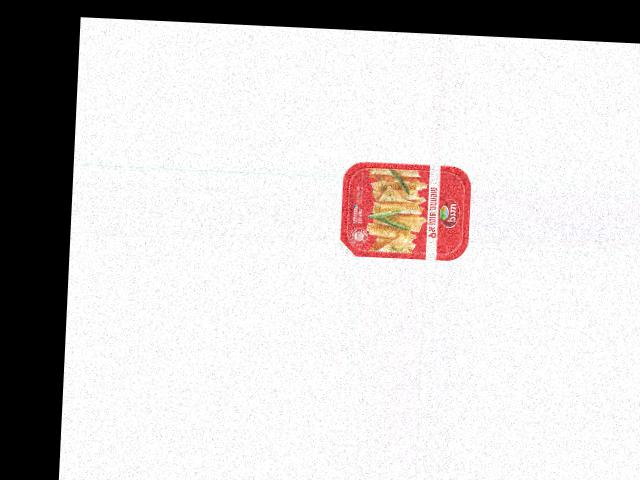cheese: (339, 159, 472, 261)
